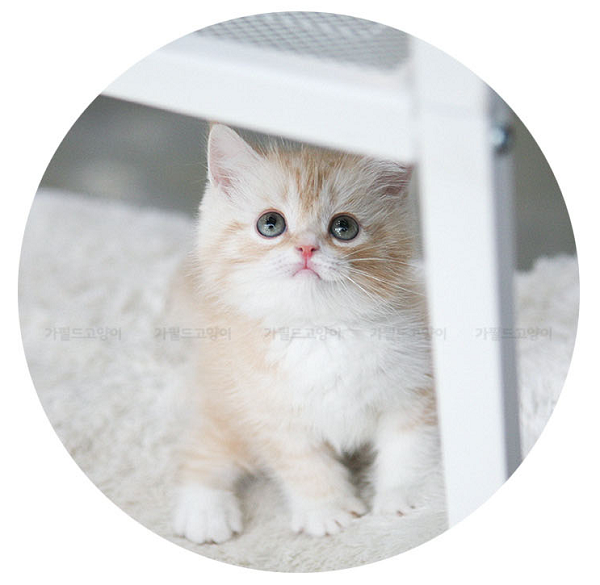cat: (146, 119, 441, 551)
cat-face: (191, 118, 423, 343)
